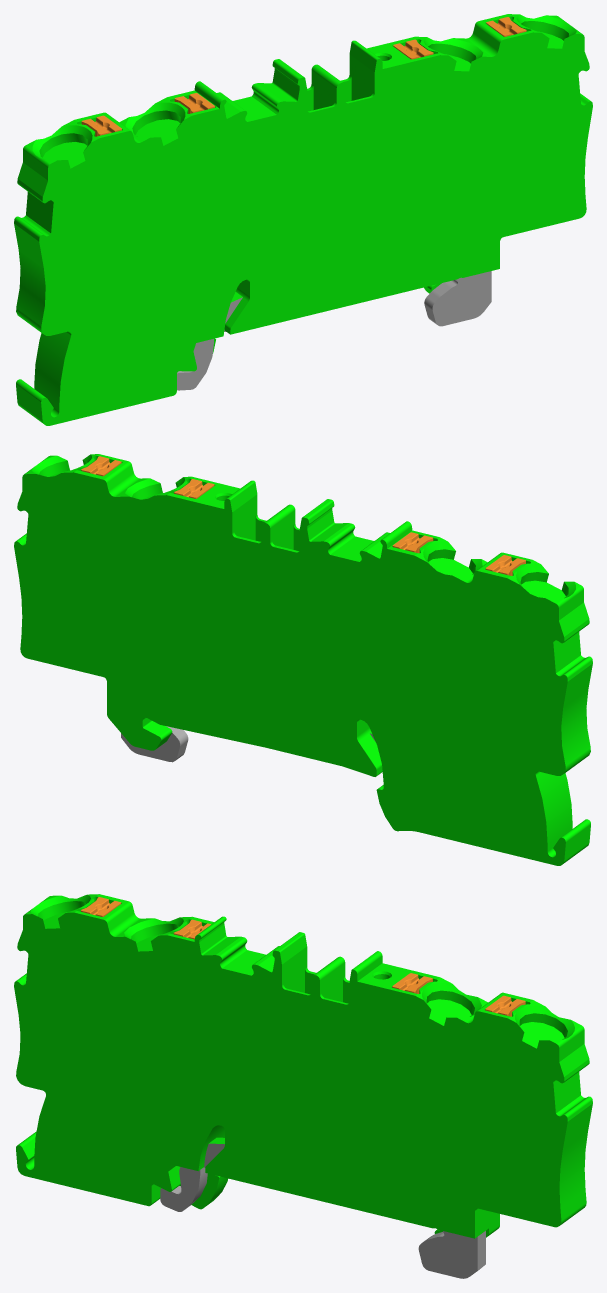
Rendered from Wago.2204-1407.glb.
The picture shows the model from 3 angles, top to bottom: view 1: azimuth 30°, elevation 25°; view 2: azimuth 150°, elevation 25°; view 3: azimuth 330°, elevation 25°; orthographic projection.
Visible parts, largest first — view 1: 2204-1407_HI; view 2: 2204-1407_HI; view 3: 2204-1407_HI.
Part boxes in pixels (left/top/right/bottom): 2204-1407_HI: left=14, top=14, right=592, bottom=425; 2204-1407_HI: left=14, top=454, right=592, bottom=865; 2204-1407_HI: left=14, top=894, right=592, bottom=1278.
Bounding box in the file's own units: 78.67 × 39.5 × 6.2.
